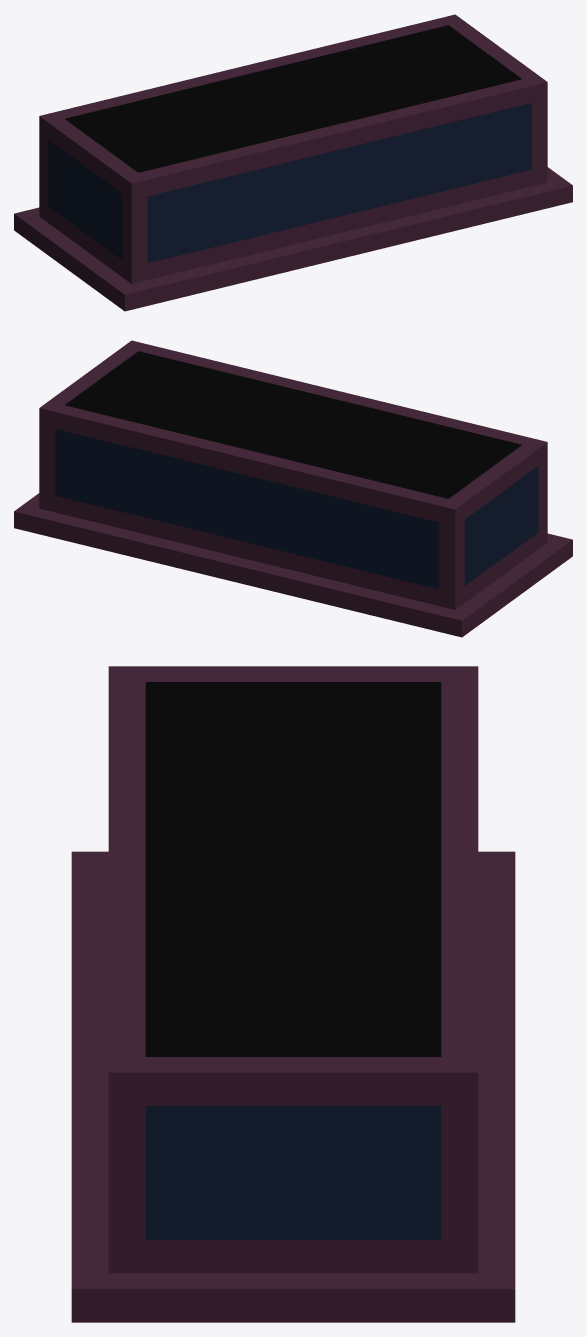
The model's file is tomb_c_b.obj.
The picture shows the model from 3 angles, top to bottom: view 1: azimuth 30°, elevation 25°; view 2: azimuth 150°, elevation 25°; view 3: azimuth 270°, elevation 25°; orthographic projection. The views are drawn at different scales.
Bounding box in the file's own units: 2.8 × 0.7 × 1.2.
Materials: 1 (1 with a texture image).
